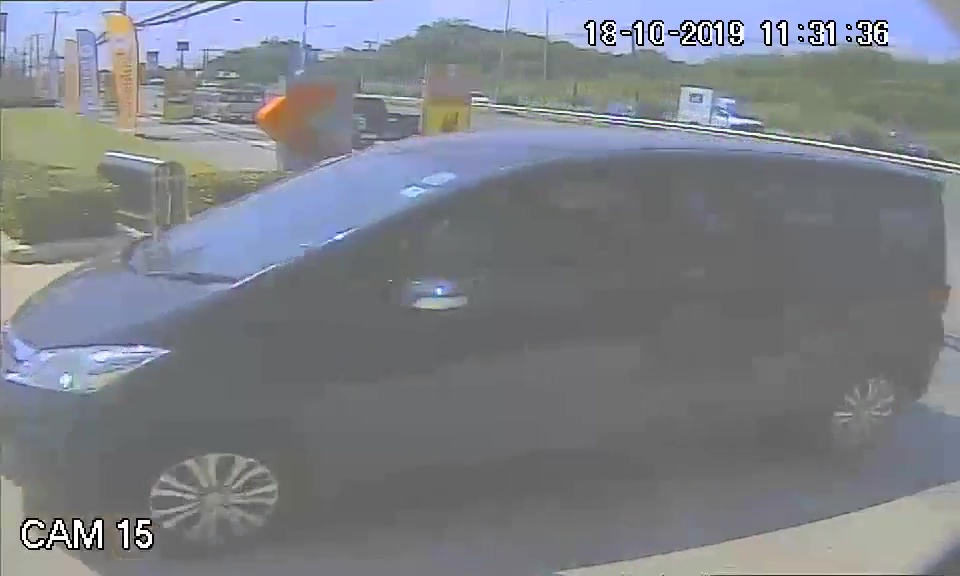van: (8, 113, 949, 518)
